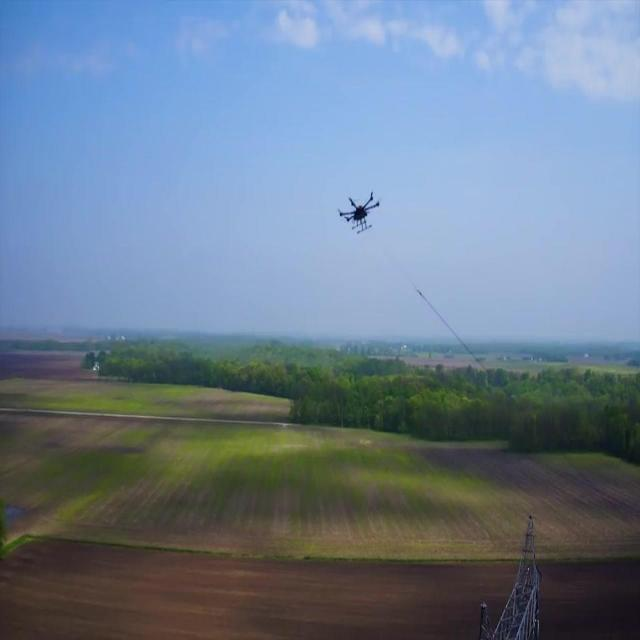UAV: (337, 189, 380, 234)
